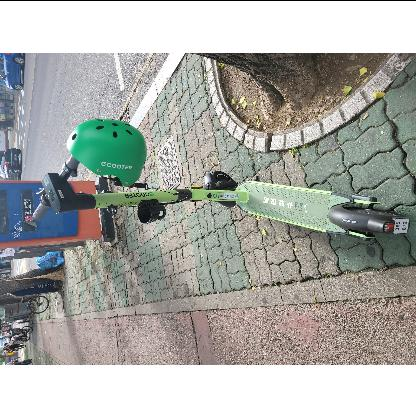bike: (20, 119, 412, 243)
